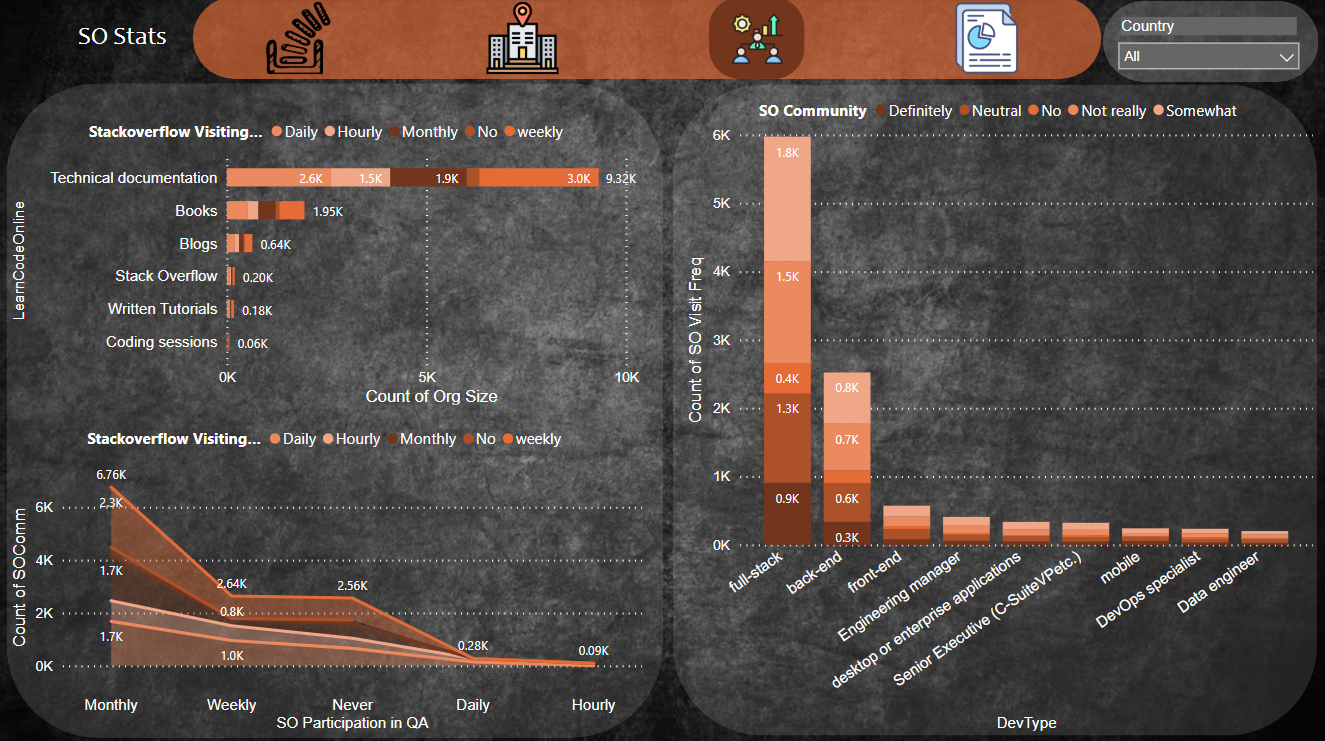

What the dashboard file says about the page in this screenshot:
{"tool":"powerbi","page":{"name":"SO Stats","canvas":[1280,720],"ordinal":2},"visuals":[{"type":"shape","box":[6.7,83.3,633.3,631.7],"z":0},{"type":"shape","box":[1065,3.3,208.3,78.3],"z":1000},{"type":"shape","box":[186.8,0,876.6,79],"z":2000},{"type":"image","box":[465.6,0,79,79],"z":3000},{"type":"image","box":[685.5,0,92,79],"z":4000},{"type":"image","box":[896.8,0,110.7,79],"z":5000},{"type":"image","box":[238.6,0,100.6,79],"z":6000},{"type":"barChart","fields":{"Category":["survey_results_public.LearnCodeOnline"],"Y":["CountNonNull(survey_results_public.Org Size)"],"Series":["survey_results_public.SO Visit Freq"]},"box":[6.7,108.3,621.7,290],"z":7000},{"type":"stackedAreaChart","fields":{"Series":["survey_results_public.SO Visit Freq"],"Category":["survey_results_public.SO Participation in QA"],"Y":["CountNonNull(survey_results_public.SOComm)"]},"box":[6.7,405,618.3,308.3],"z":8000},{"type":"shape","box":[650,85,621.7,628.3],"z":9000},{"type":"lineStackedColumnComboChart","fields":{"Category":["survey_results_public.DevType"],"Y":["CountNonNull(survey_results_public.SO Visit Freq)"],"Series":["survey_results_public.SO Community"]},"box":[660,88.3,613.3,625],"z":10000},{"type":"slicer","title":"country Slicer","fields":{"Values":["survey_results_public.Country"]},"box":[1070,15,195,58.3],"z":11000},{"type":"textbox","box":[71.2,16.9,168.8,72.4],"z":11001}]}

Visuals, with their boxes in screenshot pixels (x1, y1, x2, y2), scaled from the page's 1280x720 canvas onto the 1325x741 screenshot:
shape: <bbox>7, 86, 662, 736</bbox>
shape: <bbox>1102, 3, 1318, 84</bbox>
shape: <bbox>193, 0, 1101, 81</bbox>
image: <bbox>482, 0, 564, 81</bbox>
image: <bbox>710, 0, 805, 81</bbox>
image: <bbox>928, 0, 1043, 81</bbox>
image: <bbox>247, 0, 351, 81</bbox>
barChart - survey_results_public.LearnCodeOnline x CountNonNull(survey_results_public.Org Size): <bbox>7, 111, 650, 410</bbox>
stackedAreaChart - survey_results_public.SO Visit Freq x survey_results_public.SO Participation in QA: <bbox>7, 417, 647, 734</bbox>
shape: <bbox>673, 87, 1316, 734</bbox>
lineStackedColumnComboChart - survey_results_public.DevType x CountNonNull(survey_results_public.SO Visit Freq): <bbox>683, 91, 1318, 734</bbox>
"country Slicer" slicer: <bbox>1108, 15, 1309, 75</bbox>
textbox: <bbox>74, 17, 248, 92</bbox>
